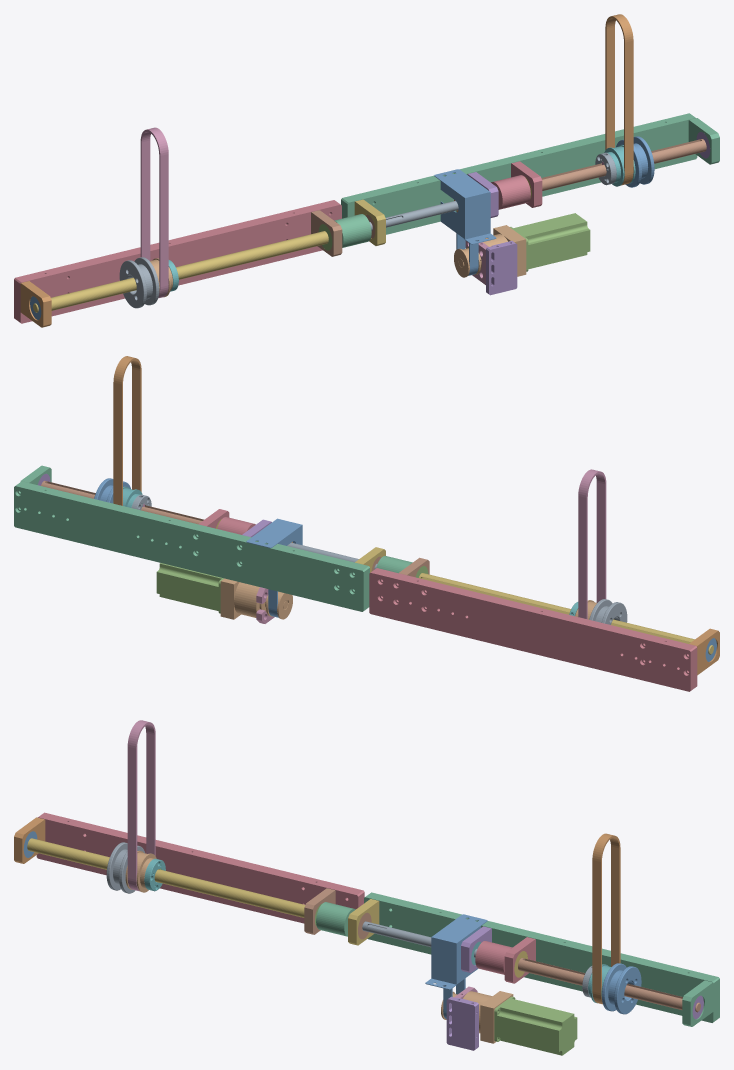
3 renders of one model, top to bottom at view 1: azimuth 30°, elevation 25°; view 2: azimuth 150°, elevation 25°; view 3: azimuth 330°, elevation 25°, orthographic.
Visible parts, largest first — view 1: solid_15_0, solid_14_0, solid_29_0, solid_9_0, solid_1_0, solid_22_0, solid_36_0, solid_31_0, solid_28_0, solid_8_0, solid_27_0, solid_13_0 (+9 smaller); view 2: solid_14_0, solid_15_0, solid_9_0, solid_1_0, solid_22_0, solid_29_0, solid_35_0, solid_36_0, solid_31_0, solid_8_0, solid_13_0; view 3: solid_15_0, solid_14_0, solid_22_0, solid_29_0, solid_9_0, solid_1_0, solid_36_0, solid_31_0, solid_28_0, solid_0_0, solid_35_0, solid_2_0 (+9 smaller).
Part boxes in pixels (box(x1,y1,x2,y2)): solid_15_0: box(14, 200, 341, 323); solid_14_0: box(341, 113, 697, 234); solid_29_0: box(33, 231, 328, 312); solid_9_0: box(140, 127, 168, 298); solid_1_0: box(605, 14, 633, 185); solid_22_0: box(510, 213, 590, 271); solid_36_0: box(434, 169, 496, 244); solid_31_0: box(541, 139, 706, 190); solid_28_0: box(486, 241, 517, 295); solid_8_0: box(119, 257, 159, 308); solid_27_0: box(491, 175, 530, 209); solid_13_0: box(20, 281, 51, 327); solid_14_0: box(14, 481, 369, 611); solid_15_0: box(369, 568, 697, 691); solid_9_0: box(578, 469, 606, 619); solid_1_0: box(113, 356, 141, 505); solid_22_0: box(156, 563, 223, 613); solid_29_0: box(419, 573, 713, 654); solid_35_0: box(220, 578, 287, 619); solid_36_0: box(246, 518, 302, 548); solid_31_0: box(41, 480, 203, 524); solid_8_0: box(589, 599, 627, 624); solid_13_0: box(689, 628, 719, 675); solid_15_0: box(36, 812, 364, 923); solid_14_0: box(364, 892, 719, 1022); solid_22_0: box(494, 996, 577, 1055); solid_29_0: box(27, 838, 305, 917); solid_9_0: box(127, 720, 155, 891); solid_1_0: box(592, 833, 620, 1004); solid_36_0: box(425, 914, 487, 989); solid_31_0: box(518, 958, 700, 1012); solid_28_0: box(446, 996, 478, 1050); solid_0_0: box(602, 963, 641, 1014); solid_35_0: box(463, 991, 513, 1043); solid_2_0: box(682, 980, 713, 1026).
Bounding box in the file's own units: 1200 × 395 × 117.
